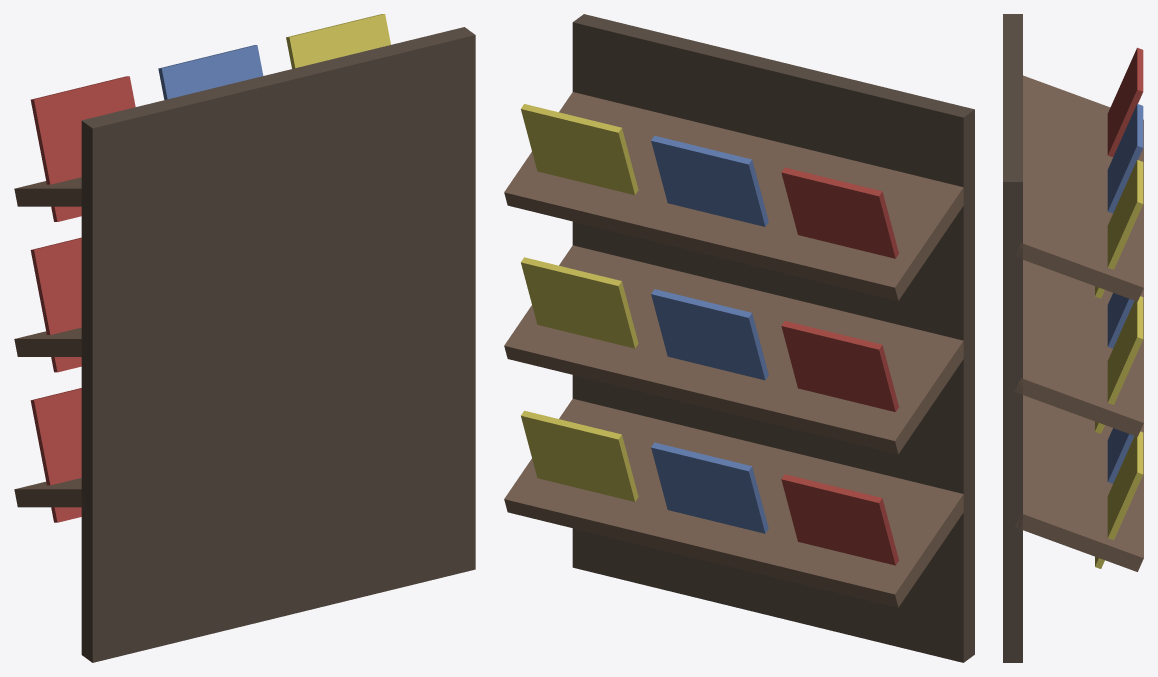
File: prop_zasshi_rack.glb
3 views of the same model, side by side, from view 1: azimuth 30°, elevation 25°; view 2: azimuth 150°, elevation 25°; view 3: azimuth 270°, elevation 25° (orthographic). The views are drawn at different scales.
Visible parts, largest first — view 1: zasshi_rack; view 2: zasshi_rack; view 3: zasshi_rack.
Part boxes in pixels (box(x1,y1,x2,y2)): zasshi_rack: box(14, 14, 475, 662); zasshi_rack: box(504, 14, 974, 662); zasshi_rack: box(1003, 14, 1143, 662).
Bounding box in the file's own units: 1.2 × 1.6 × 0.4248.
